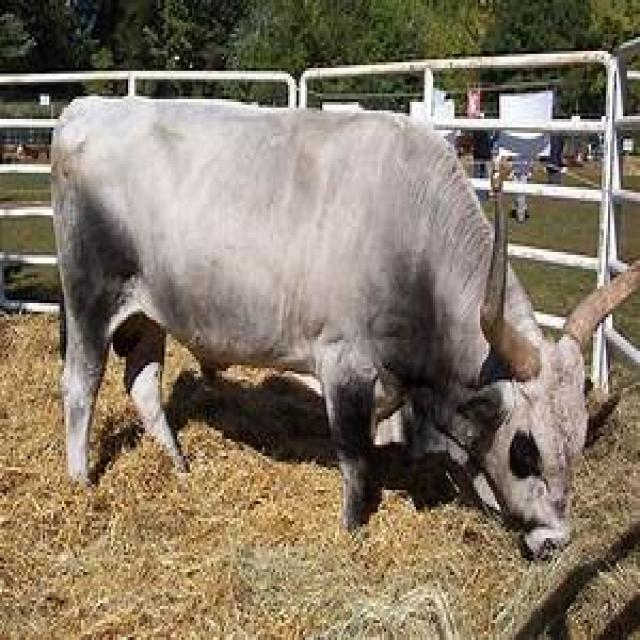cow: (49, 96, 563, 532)
